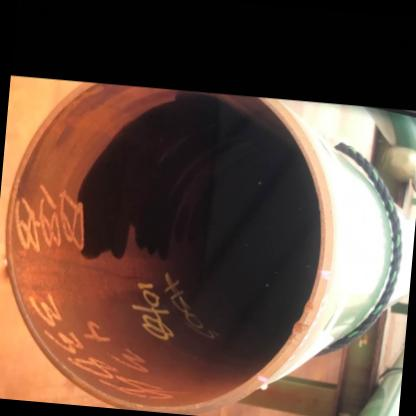Bevel: (288, 298, 316, 338)
